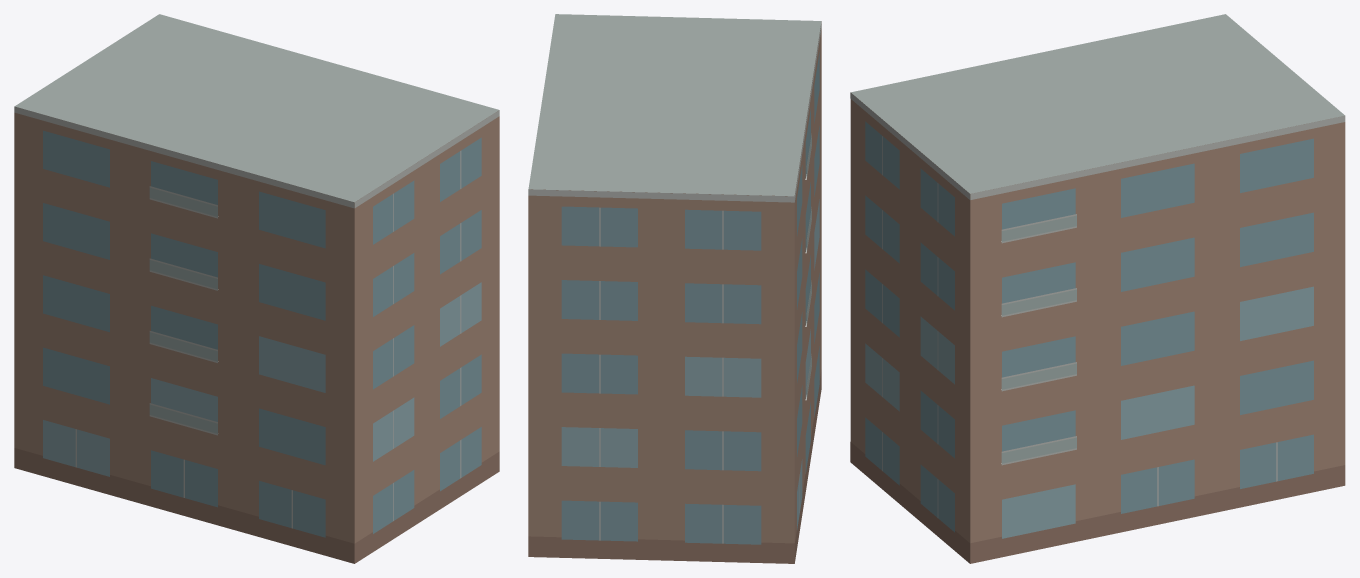
Rendered from survey-upis-32705163.glb.
The picture shows the model from 3 angles, left to right: view 1: azimuth 30°, elevation 25°; view 2: azimuth 150°, elevation 25°; view 3: azimuth 270°, elevation 25°; orthographic projection. The views are drawn at different scales.
Visible parts, largest first — view 1: survey-upis-32705163.tmp; view 2: survey-upis-32705163.tmp; view 3: survey-upis-32705163.tmp.
Part boxes in pixels (x1,y1,x2,y2): survey-upis-32705163.tmp: [14, 14, 499, 563]; survey-upis-32705163.tmp: [528, 14, 821, 563]; survey-upis-32705163.tmp: [850, 14, 1345, 563].
Bounding box in the file's own units: 14.92 × 14.3 × 17.34.
